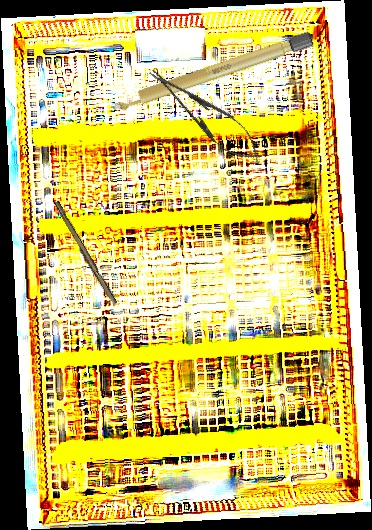Needle Holder: (140, 57, 271, 172)
Scalpel Handle: (106, 30, 316, 116), (50, 200, 120, 307)
